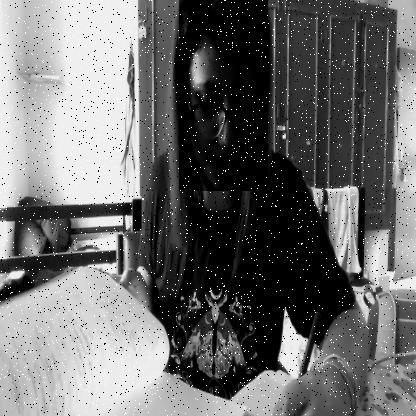Distracted: (179, 0, 268, 191)
